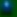blue: (0, 0, 17, 17)
